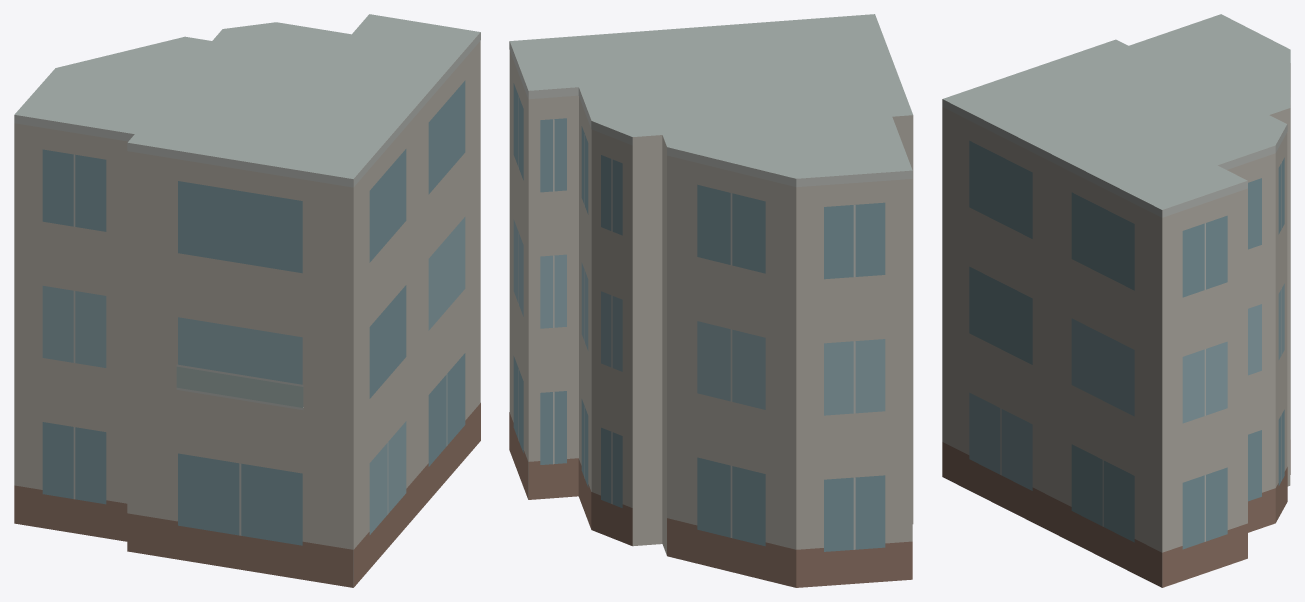
File: survey-upis-32490748.glb
The picture shows the model from 3 angles, left to right: view 1: azimuth 30°, elevation 25°; view 2: azimuth 150°, elevation 25°; view 3: azimuth 270°, elevation 25°; orthographic projection. The views are drawn at different scales.
Parts seen in each view (by area): view 1: survey-upis-32490748.tmp; view 2: survey-upis-32490748.tmp; view 3: survey-upis-32490748.tmp.
Boxes of the visible parts, x1,y1,x2,y2 form: survey-upis-32490748.tmp: (14, 14, 480, 587); survey-upis-32490748.tmp: (509, 14, 913, 587); survey-upis-32490748.tmp: (942, 14, 1290, 587).
Bounding box in the file's own units: 13.22 × 11.87 × 9.93.
